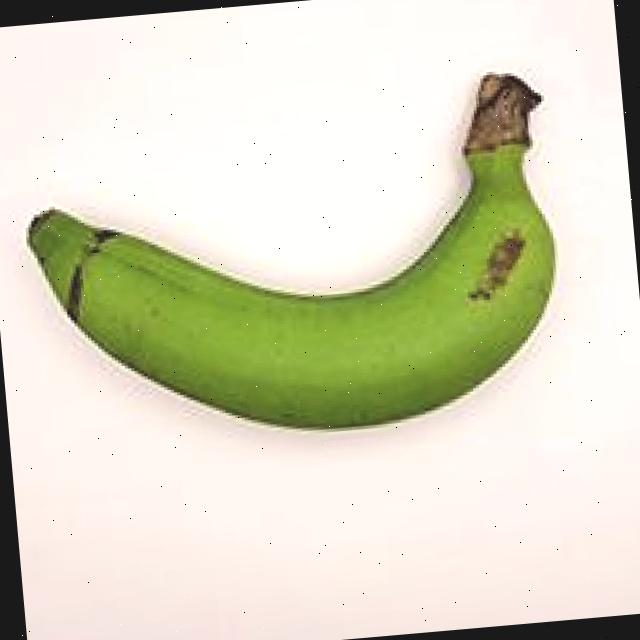Raw: (0, 16, 615, 486)
